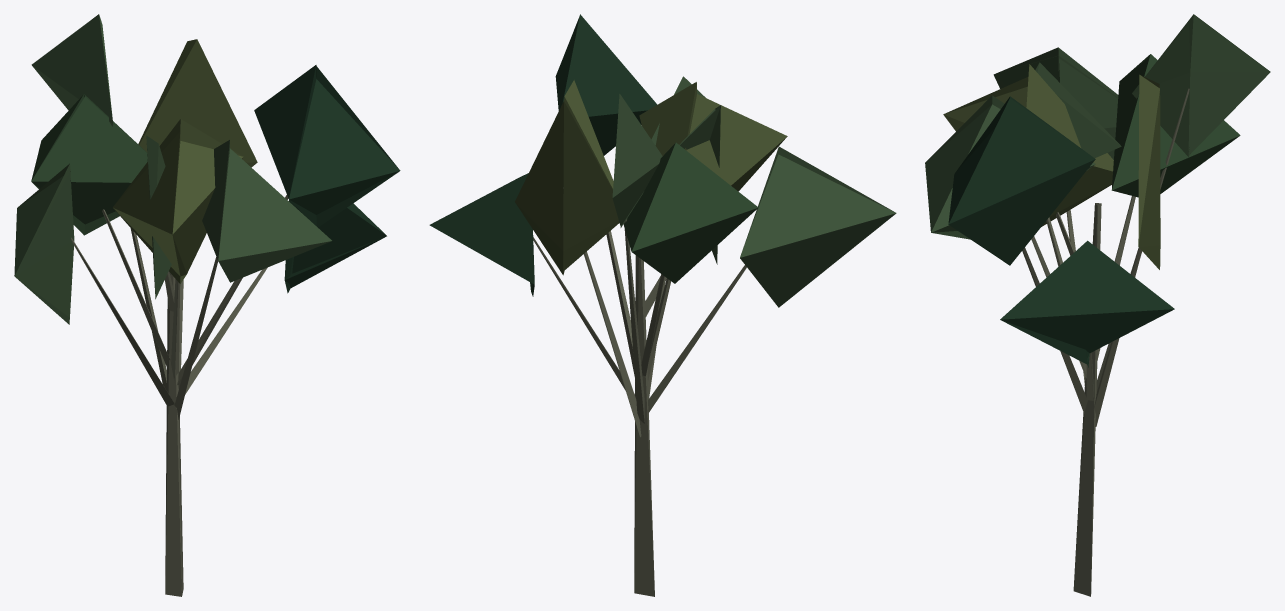
The model's file is forest_25_19.dae.
3 renders of one model, left to right at view 1: azimuth 30°, elevation 25°; view 2: azimuth 150°, elevation 25°; view 3: azimuth 270°, elevation 25°, orthographic. The views are drawn at different scales.
Visible parts, largest first — view 1: Node; view 2: Node; view 3: Node.
Part boxes in pixels (bbox=[...]): Node: bbox=[14, 14, 400, 596]; Node: bbox=[429, 14, 896, 596]; Node: bbox=[925, 14, 1270, 596].
Bounding box in the file's own units: 2.02 × 1.53 × 2.77.
